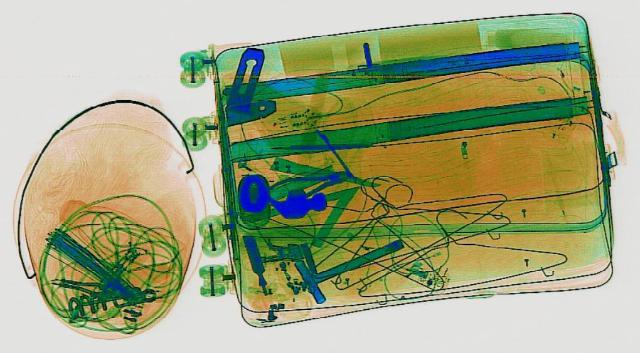Pliers: (255, 163, 358, 204)
